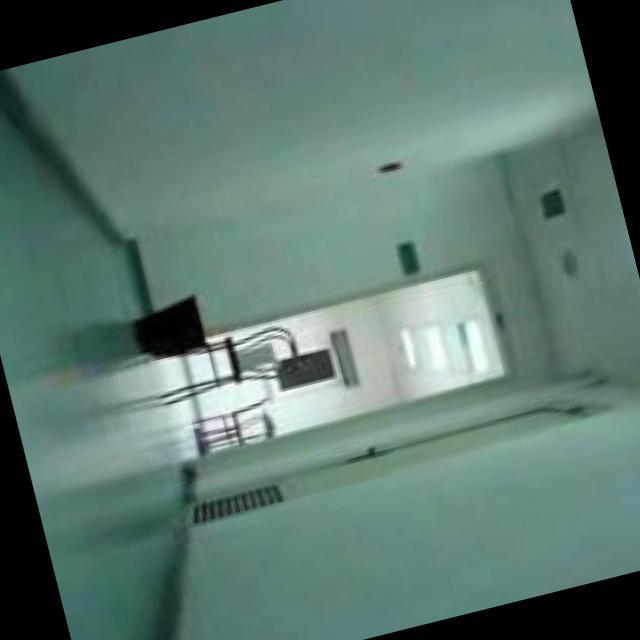Fire: (208, 337, 216, 341)
